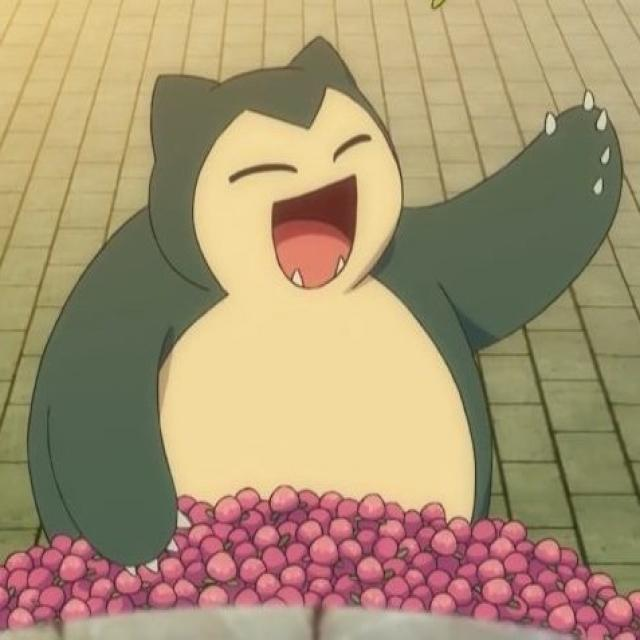Snorlax: (46, 44, 497, 563)
